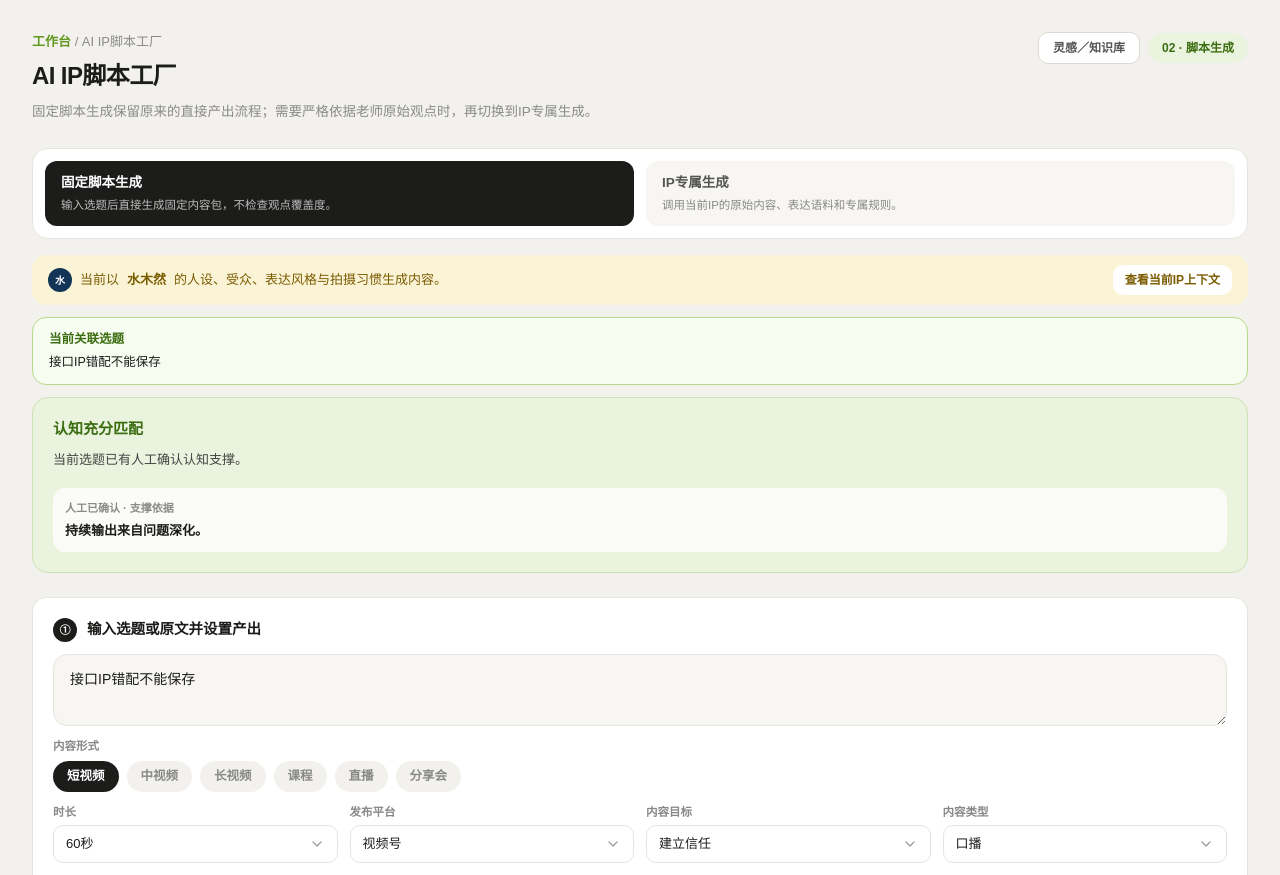
Test case: 接口返回的脚本IP与请求IP不一致时停止保存
expect the text box showing "接口IP错配不能保存" is shown: met, box 53,654 -> 1227,726
Click the button "IP专属生成 调用当前IP的原始内容、表达语料和专属规则。".
click(695, 182)  # box 646,160 -> 1235,226
(page scrolled)
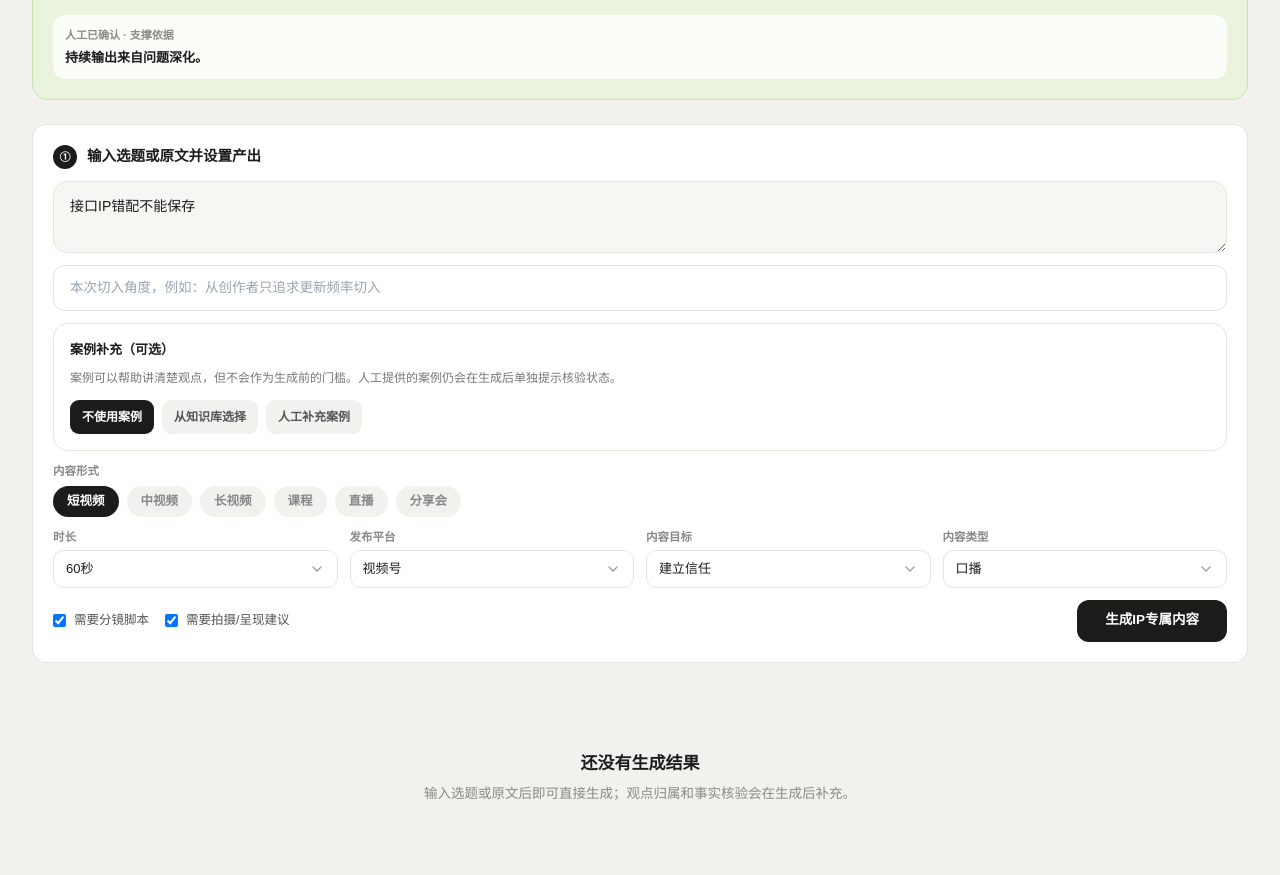
Click the button "生成IP专属内容".
click(1152, 620)  # box 1077,600 -> 1227,642
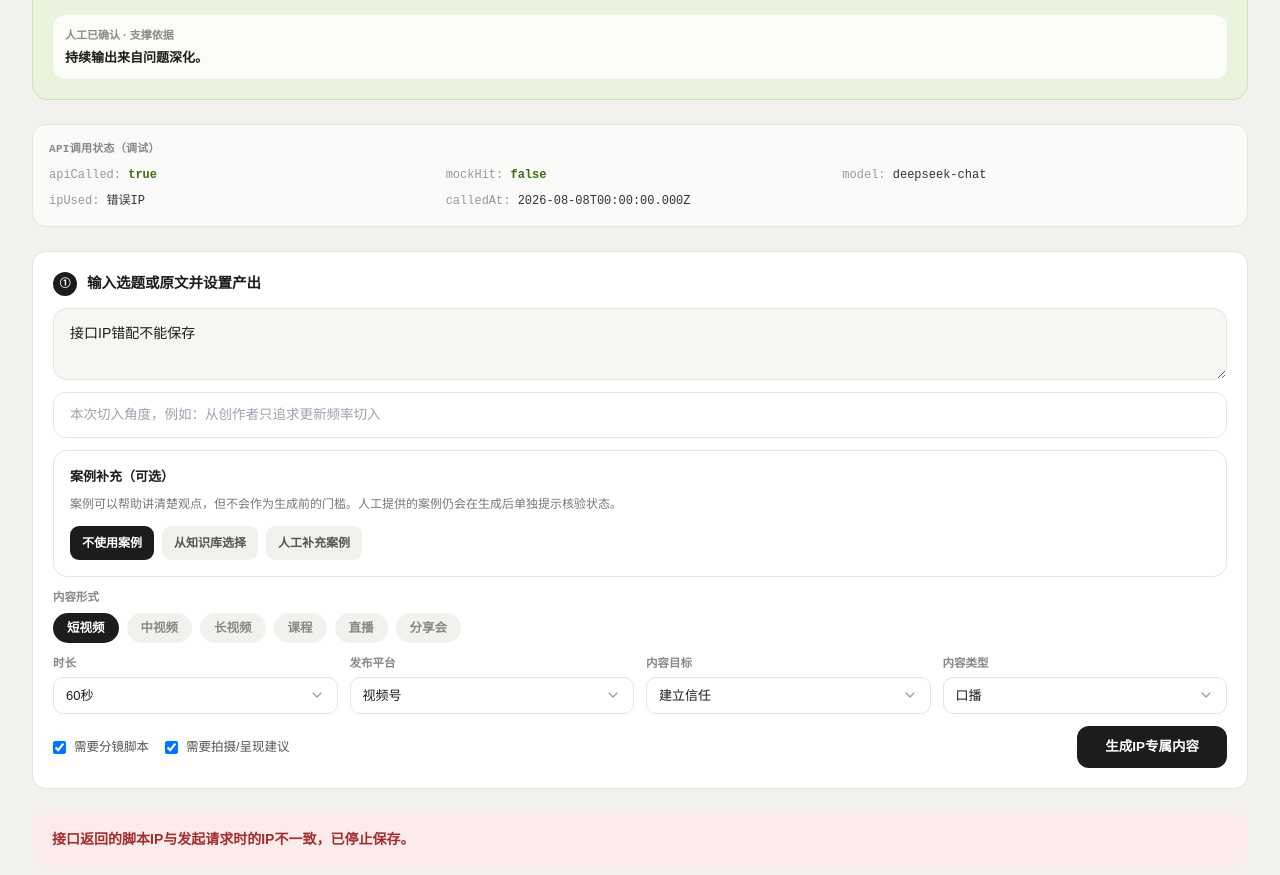
expect the text "接口返回的脚本IP与发起请求时的IP不一致，已停止保存。" is shown: met, box 32,813 -> 1248,866
